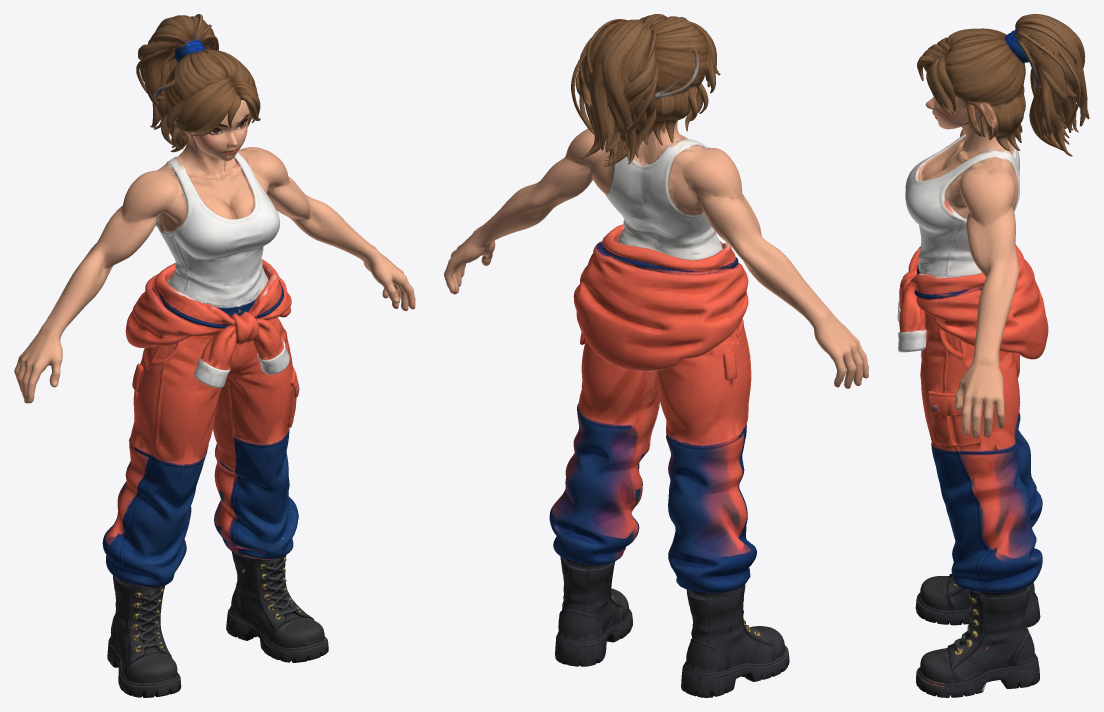
File: Protag-v3.fbx
The picture shows the model from 3 angles, left to right: view 1: azimuth 30°, elevation 25°; view 2: azimuth 150°, elevation 25°; view 3: azimuth 270°, elevation 25°; orthographic projection. The views are drawn at different scales.
Visible parts, largest first — view 1: Protag_low; view 2: Protag_low; view 3: Protag_low.
Boxes of the visible parts, left/top/right/bottom form: Protag_low: left=14, top=14, right=415, bottom=697; Protag_low: left=444, top=14, right=868, bottom=697; Protag_low: left=897, top=14, right=1089, bottom=697.
Size of the model in its own units: 125 by 190 by 52.2.
Materials: 1 (1 with a texture image).
